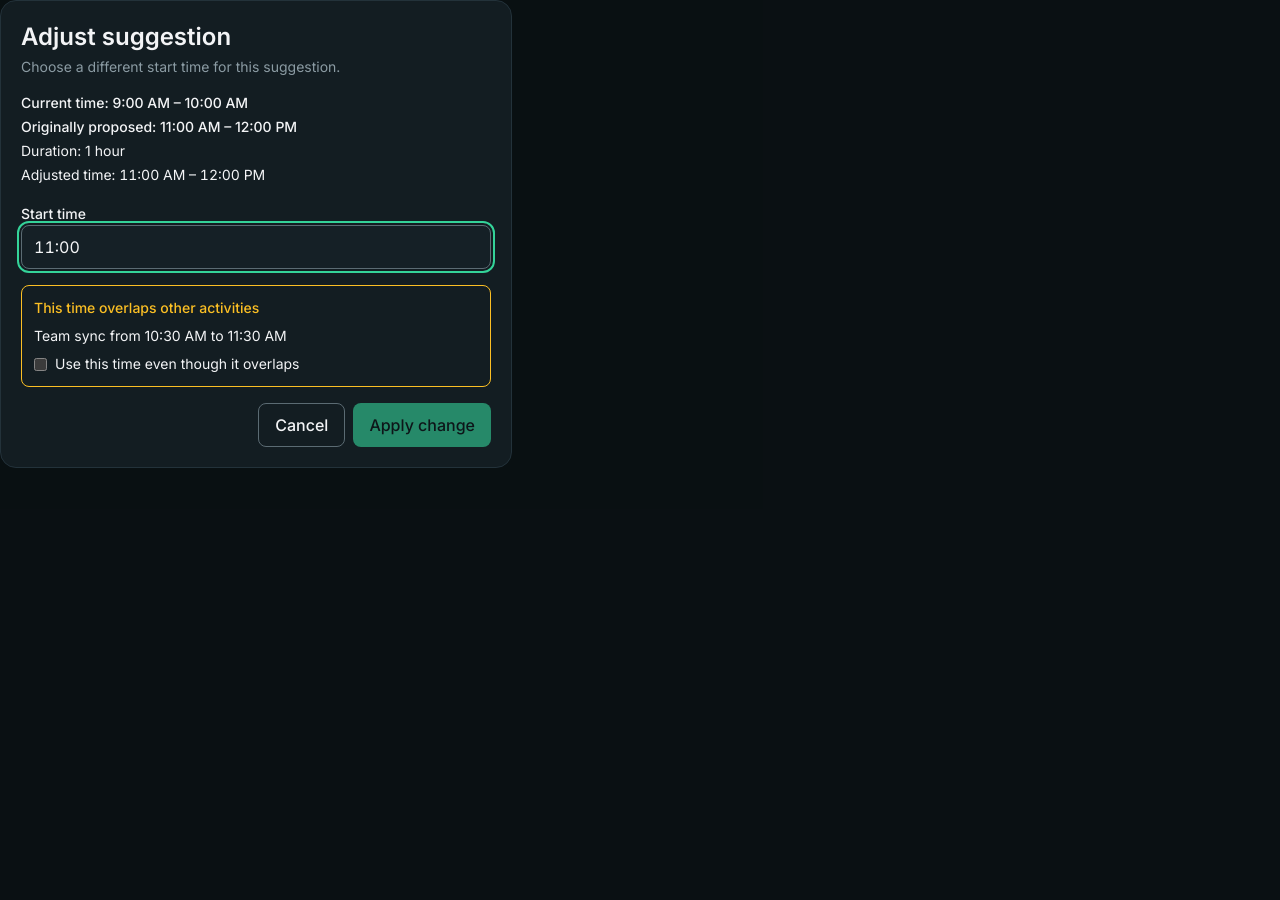
it: SuggestionAdjustDialog › names conflicts and requires acknowledgment before confirming
Expected: the text "This time overlaps other activities" is shown, [34,299,259,316]
Expected: the list item "Team sync from 10:30 AM to 11:30 AM" is shown, [34,327,287,344]
Click the checkbox labelled "Use this time even though it overlaps". click: coordinates (40, 364)
box: [34,358,47,370]
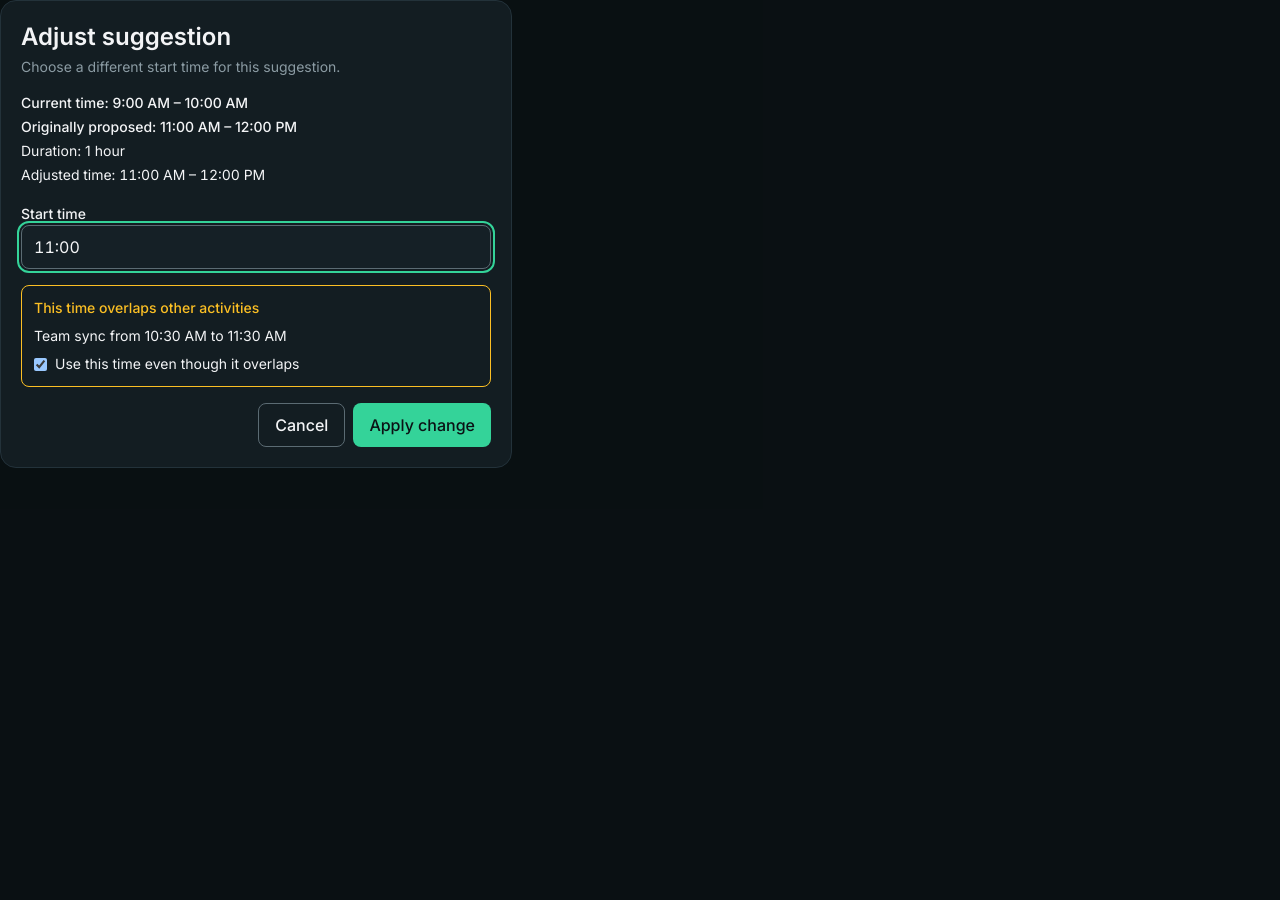
Expected: the button "Apply change" is enabled, [353,403,491,447]
